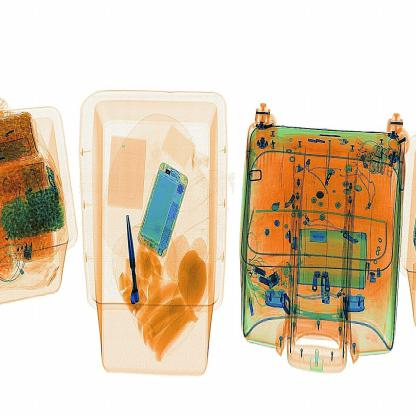gun: (108, 202, 146, 316)
